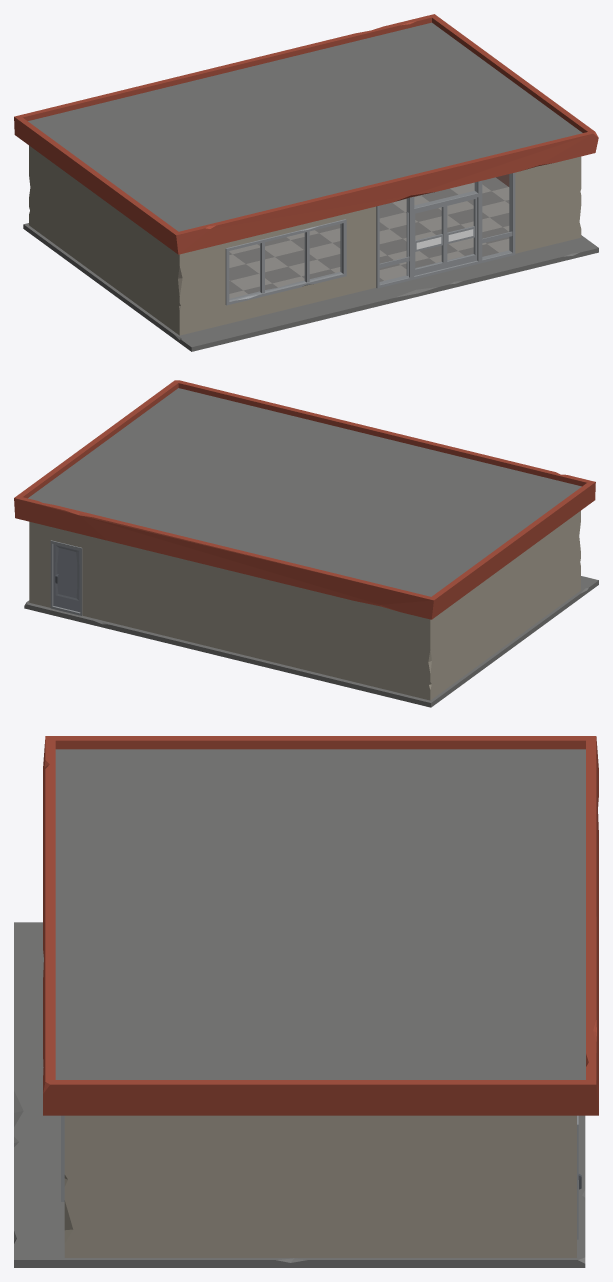
File: SM_Bld_Shop_02.fbx
3 renders of one model, top to bottom at view 1: azimuth 30°, elevation 25°; view 2: azimuth 150°, elevation 25°; view 3: azimuth 270°, elevation 25°, orthographic. The views are drawn at different scales.
Parts seen in each view (by area): view 1: SM_Bld_Shop_02, SM_Bld_Shop_02_Door_R, SM_Bld_Shop_02_Door_L; view 2: SM_Bld_Shop_02, SM_Bld_Shop_02_Door_Rear; view 3: SM_Bld_Shop_02.
Part boxes in pixels (x1=…): SM_Bld_Shop_02: x1=14, y1=14, x2=598, y2=351; SM_Bld_Shop_02_Door_R: x1=445, y1=197, x2=477, y2=268; SM_Bld_Shop_02_Door_L: x1=414, y1=205, x2=445, y2=275; SM_Bld_Shop_02: x1=14, y1=380, x2=598, y2=707; SM_Bld_Shop_02_Door_Rear: x1=53, y1=544, x2=80, y2=612; SM_Bld_Shop_02: x1=14, y1=736, x2=598, y2=1267.
Bounding box in the file's own units: 1548 × 390 × 1094.
